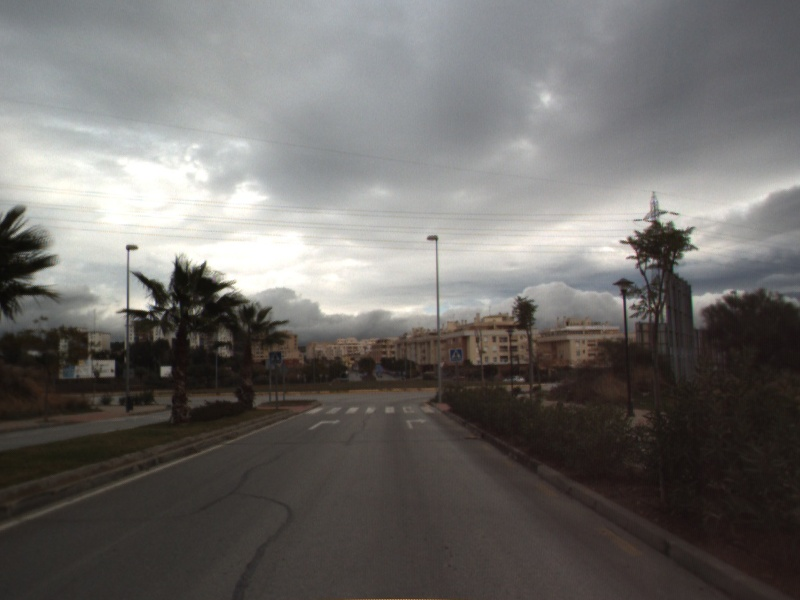RIGHT: (306, 417, 343, 432), (403, 415, 429, 431)
